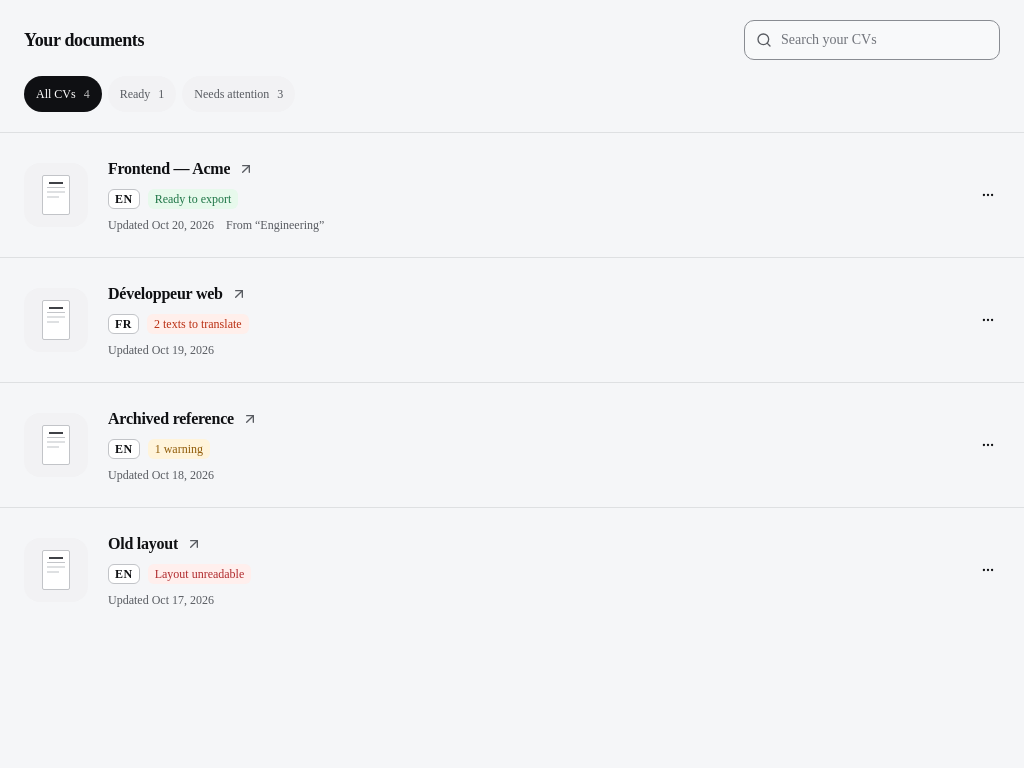
it: CV library › combines search with status filters and recovers from an empty result
In the search field labelled "Search your CVs": (872, 40) [744, 20, 1000, 60], type "  ENGINEERING "
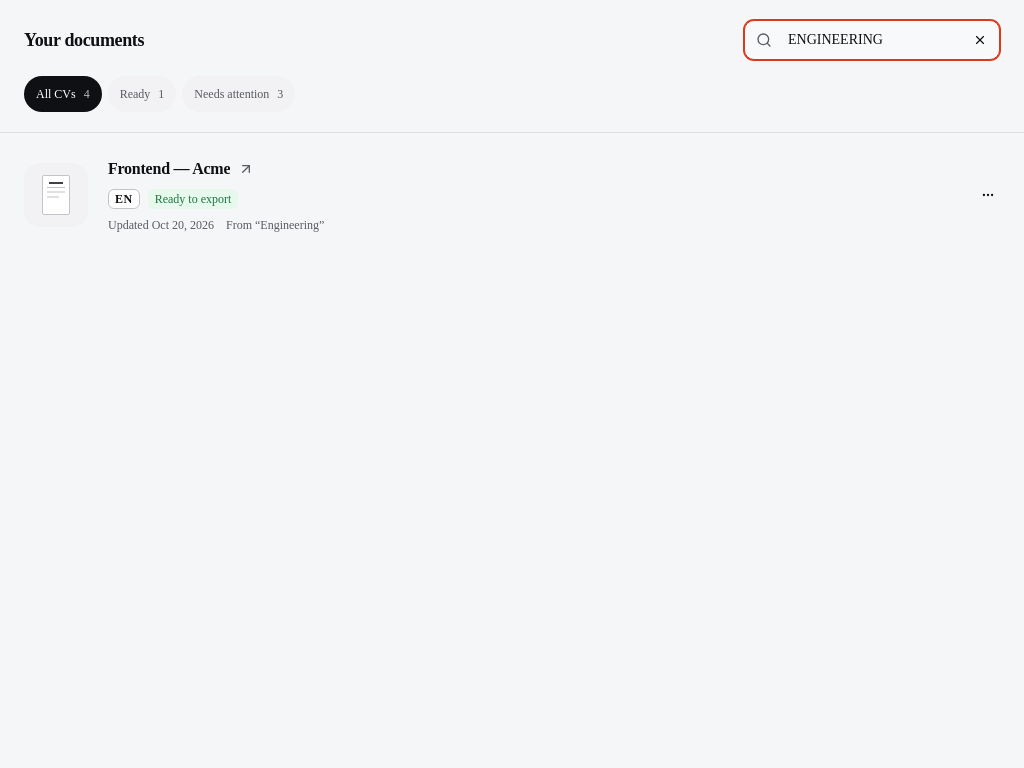
Check: the number of links is 1, box [24, 160, 324, 232]
Click the button "Needs attention 3": (239, 94) [182, 76, 295, 112]
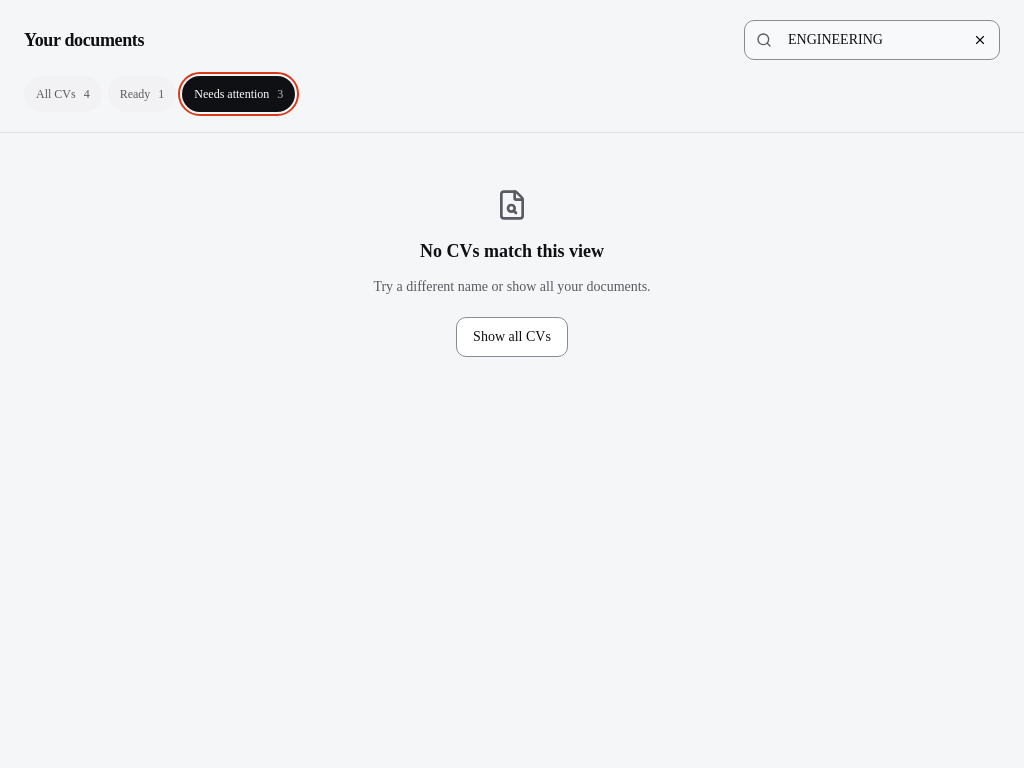
Check: the heading "No CVs match this view" is shown, box [420, 237, 604, 265]
Check: the link "Frontend — Acme EN Ready to export Updated Oct 20, 2026 From “Engineering”" is gone
Click the button "Show all CVs": (512, 337) [456, 317, 568, 357]
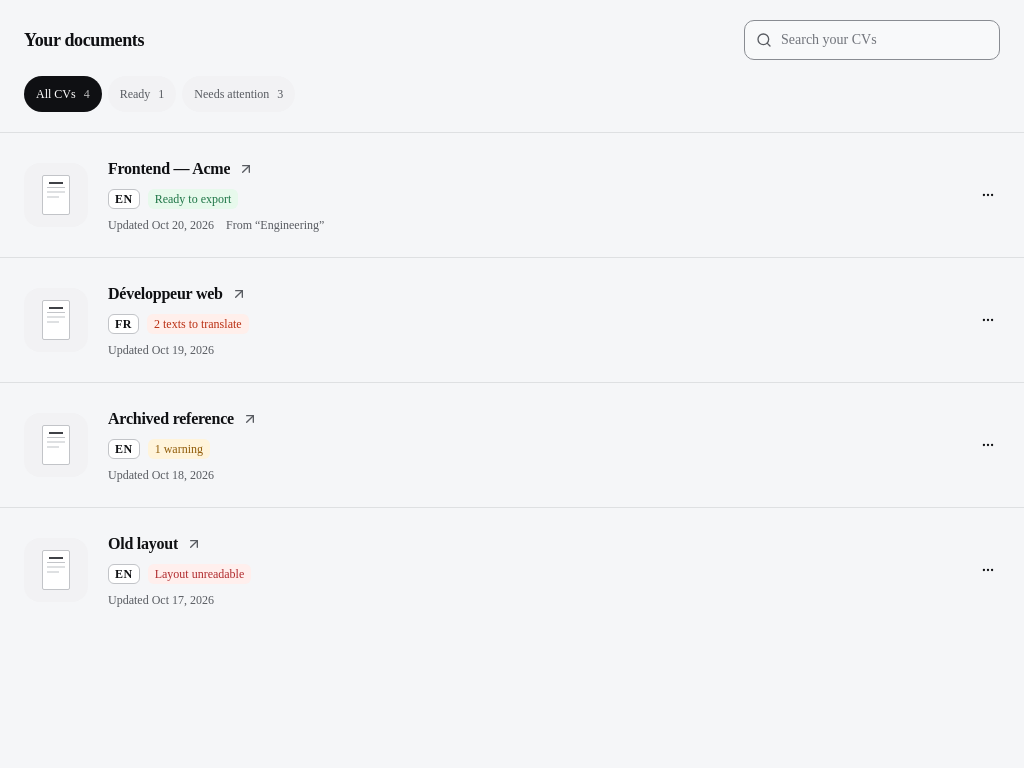
Check: the search field labelled "Search your CVs" is empty
Check: the number of links is 4, box [24, 160, 324, 232]; [24, 285, 249, 357]; [24, 410, 258, 482]; [24, 535, 251, 607]
In the search field labelled "Search your CVs": (872, 40) [744, 20, 1000, 60], type "AcMe"
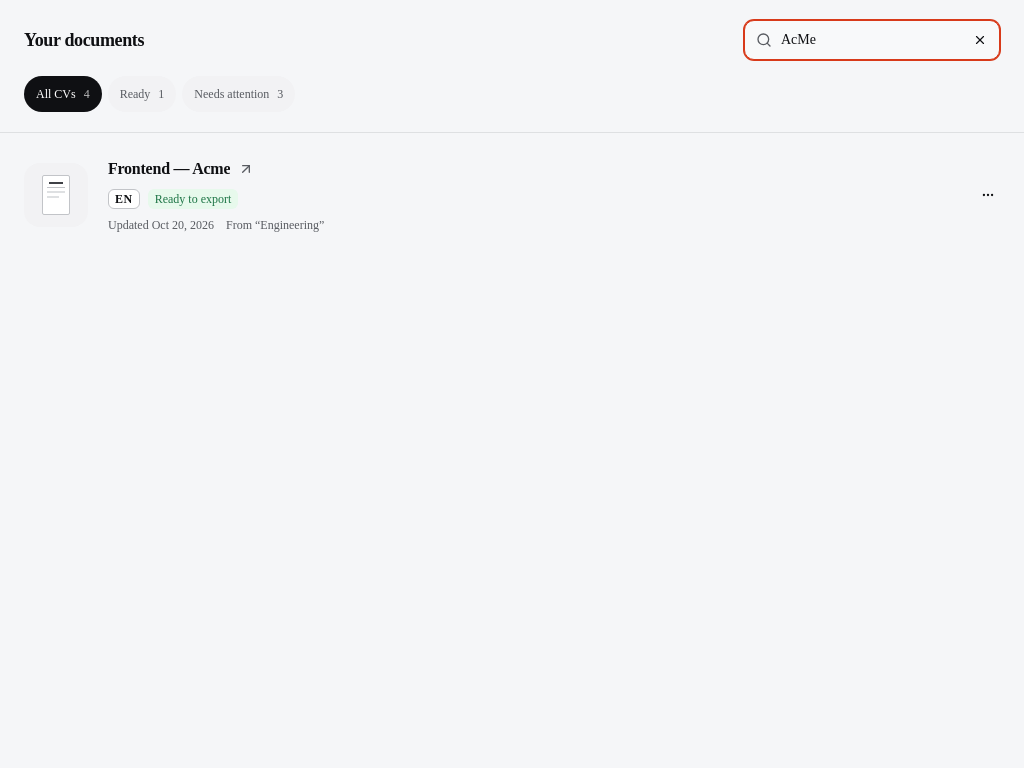
Check: the number of links is 1, box [24, 160, 324, 232]
Click the button named "Clear search": (980, 40) [964, 24, 996, 56]
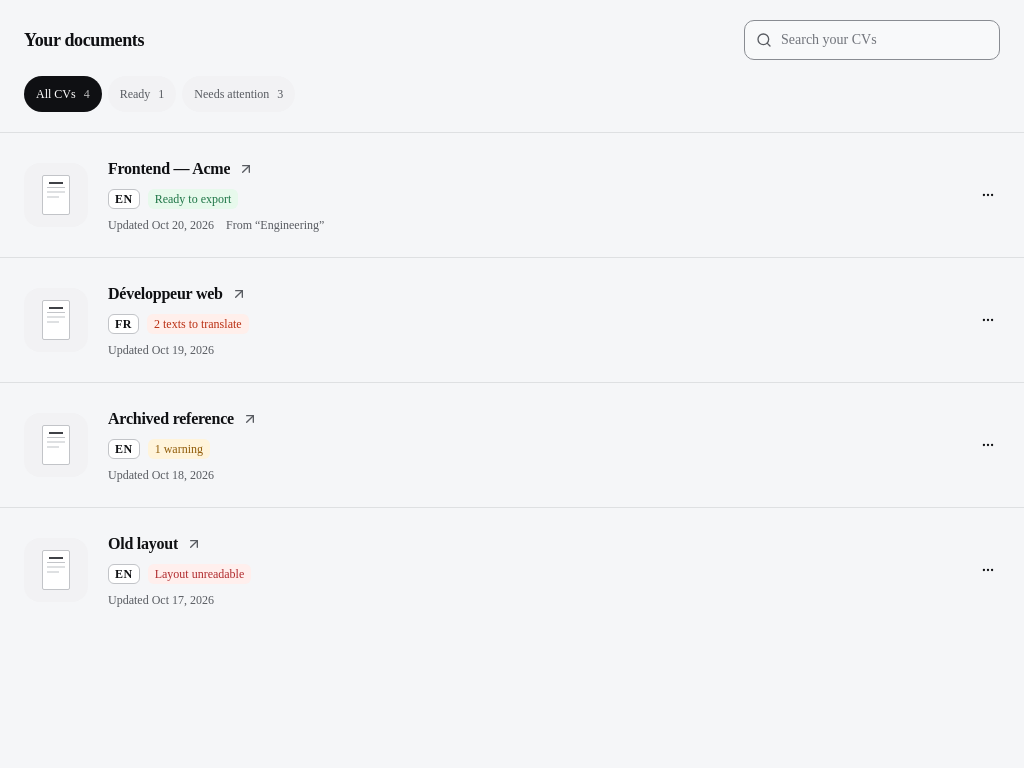
Check: the number of links is 4, box [24, 160, 324, 232]; [24, 285, 249, 357]; [24, 410, 258, 482]; [24, 535, 251, 607]
